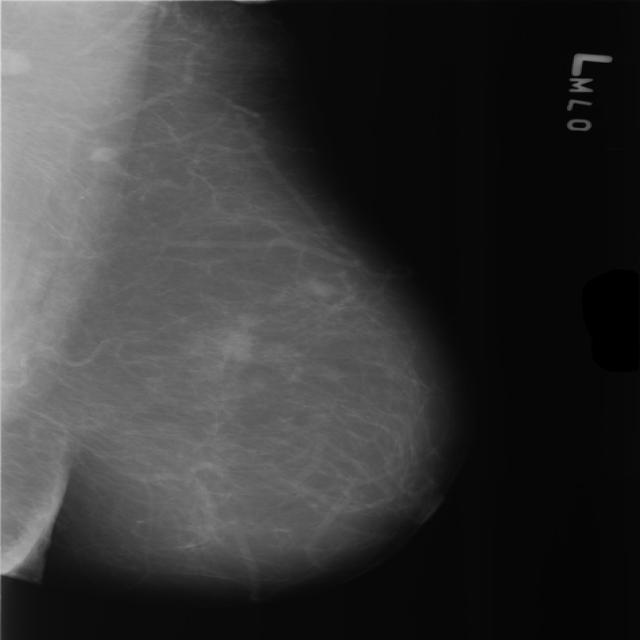tumour: (217, 326, 253, 360)
